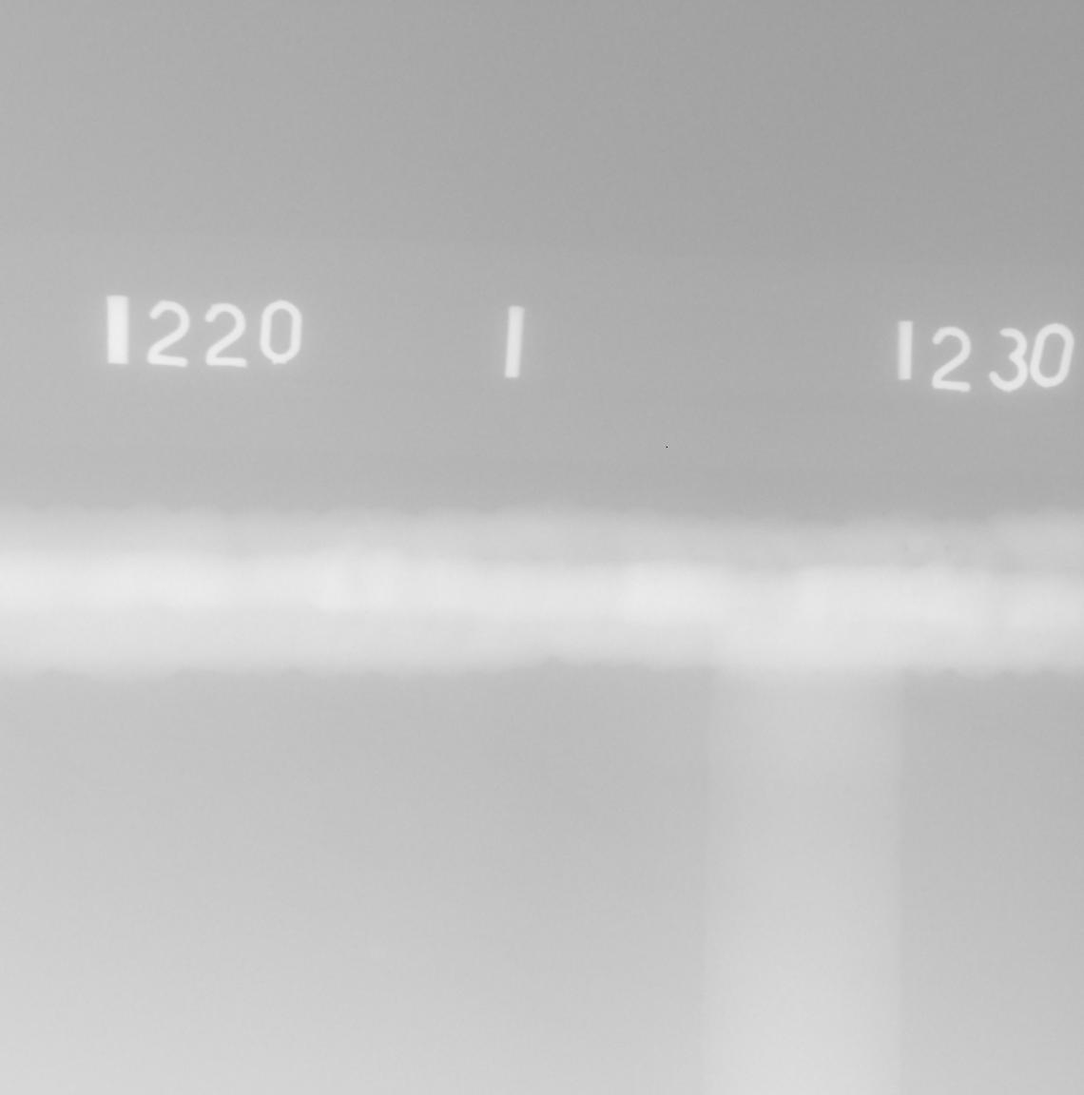Pore/Porosity: (902, 546, 909, 553), (943, 546, 949, 552)
